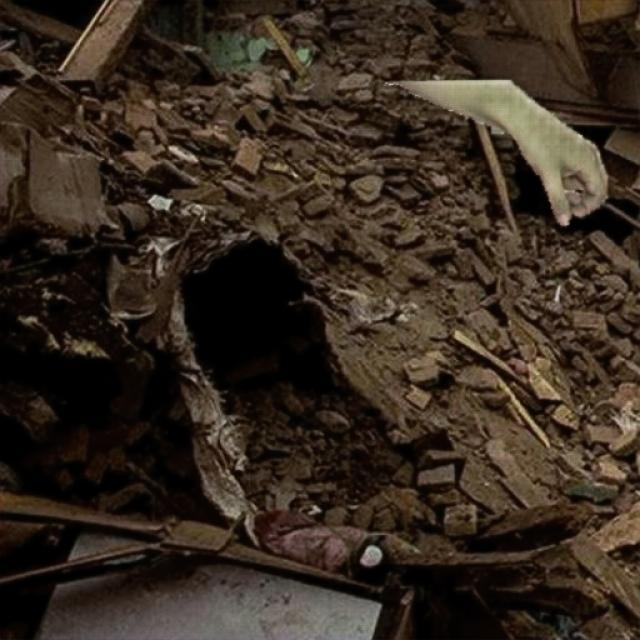Person in Rubble: (382, 80, 606, 225)
